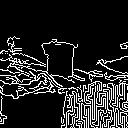cube: (40, 38, 76, 83)
